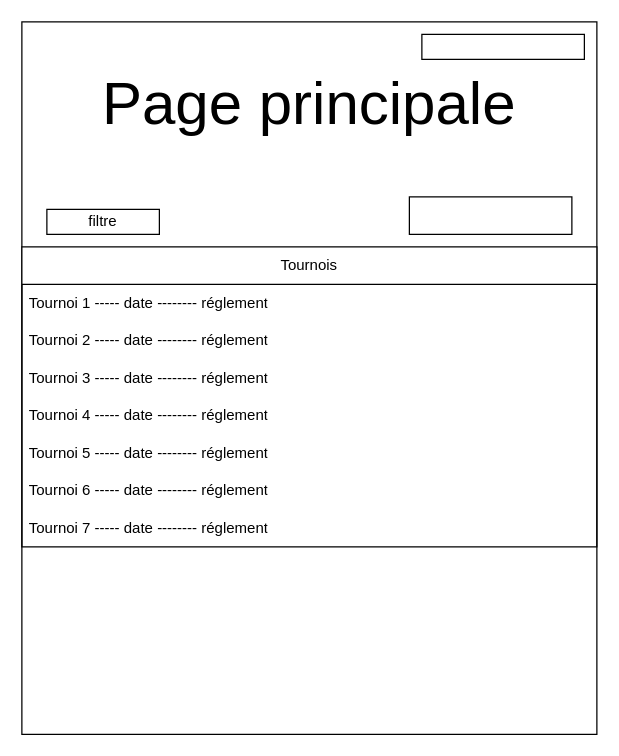
This 619x756 diagram has some shape labels left out. Each missing label, with the centre of its shape:
"Bouton de création de tournoi" belongs at point (490, 215).
"Option de connexion" belongs at point (502, 46).
